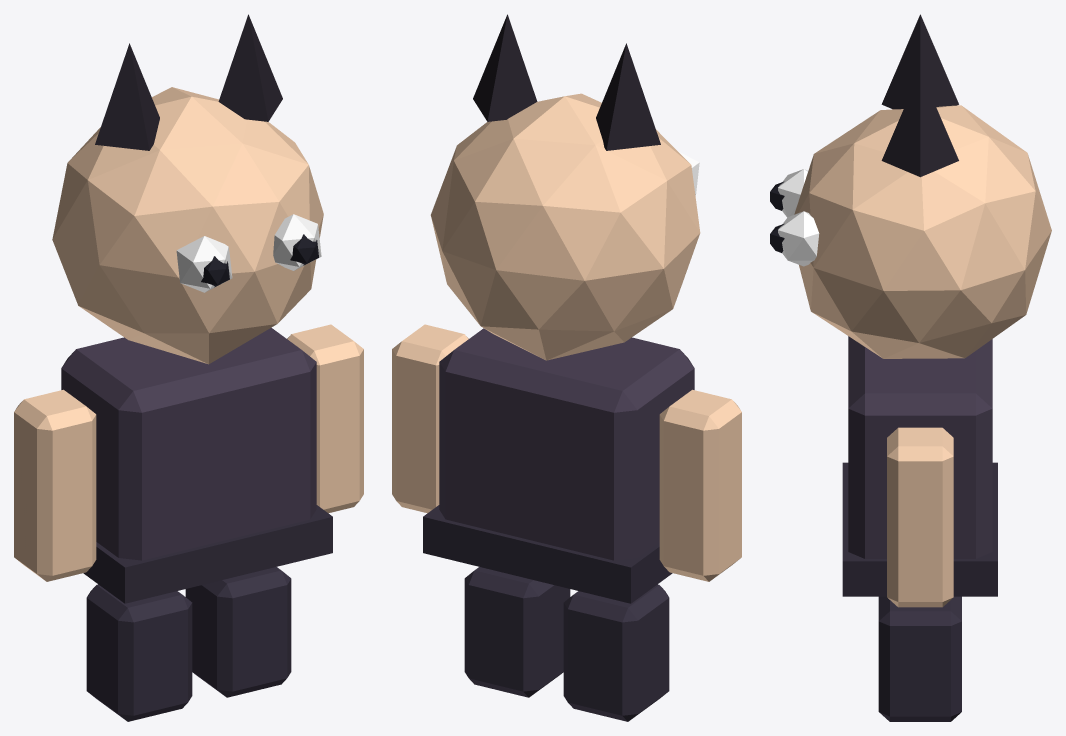
Rendered from NightCatPirate.fbx.
3 views of the same model, side by side, from view 1: azimuth 30°, elevation 25°; view 2: azimuth 150°, elevation 25°; view 3: azimuth 270°, elevation 25° (orthographic). The views are drawn at different scales.
Parts seen in each view (by area): view 1: NightCatPirate; view 2: NightCatPirate; view 3: NightCatPirate.
Part boxes in pixels (<box>): NightCatPirate: <box>14,14,363,721</box>; NightCatPirate: <box>392,14,741,721</box>; NightCatPirate: <box>770,14,1051,721</box>.
Bounding box in the file's own units: 3.3 × 6.4 × 2.54.
1 material, 1 textured.
